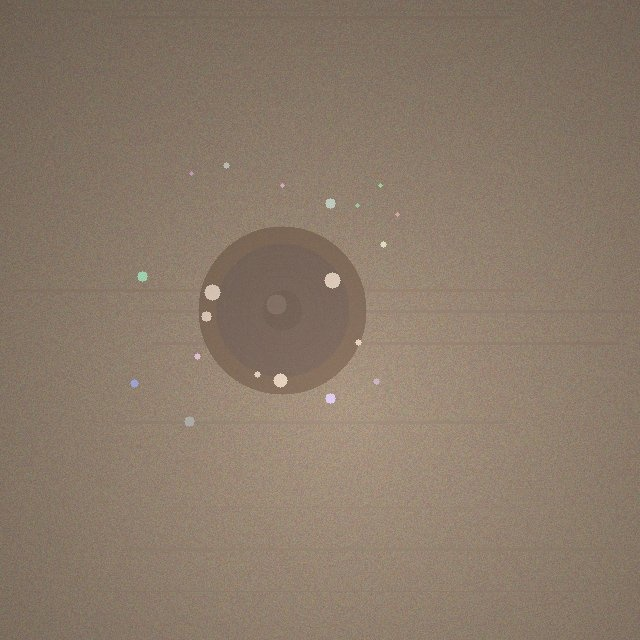overburn: (198, 226, 366, 394)
